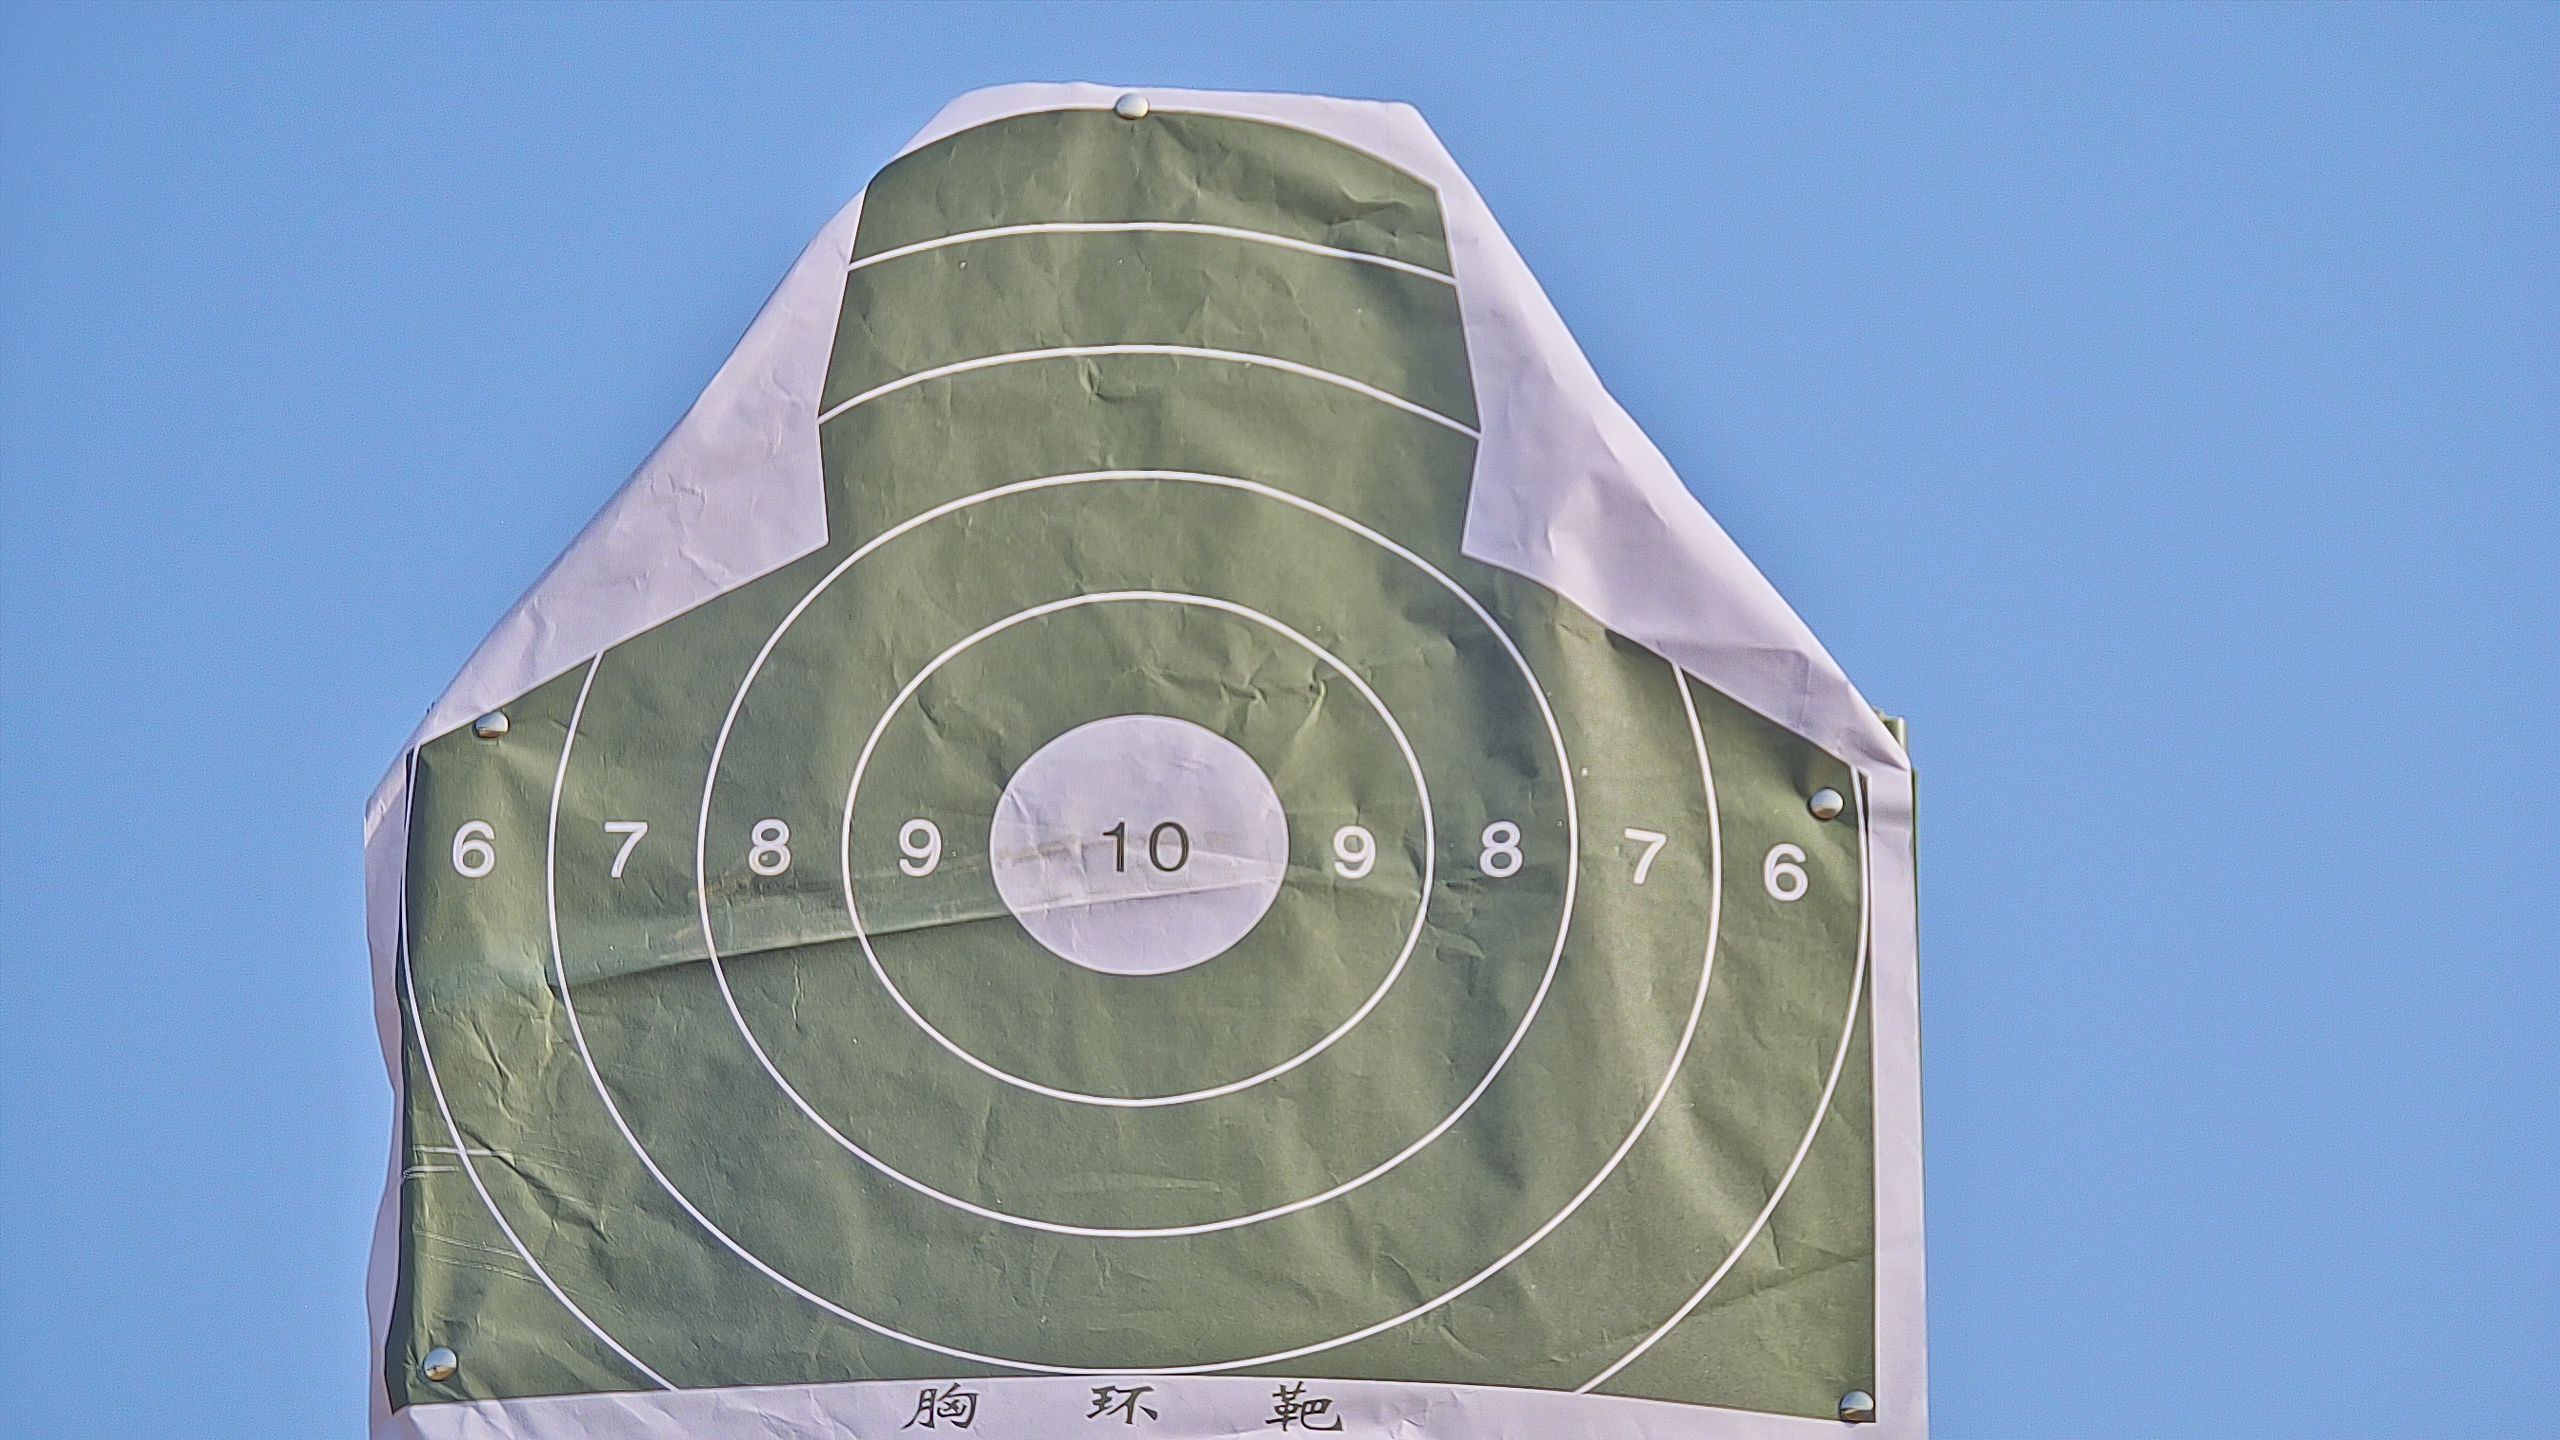kernel: (1134, 846, 1143, 855)
target: (394, 111, 1871, 1419)
ten: (986, 712, 1292, 979)
